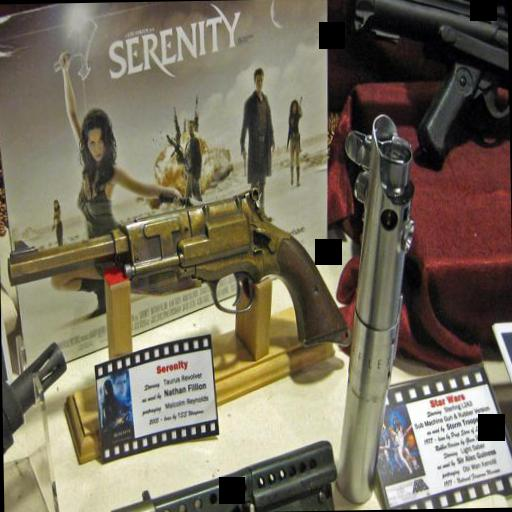Handgun: (4, 174, 350, 360)
